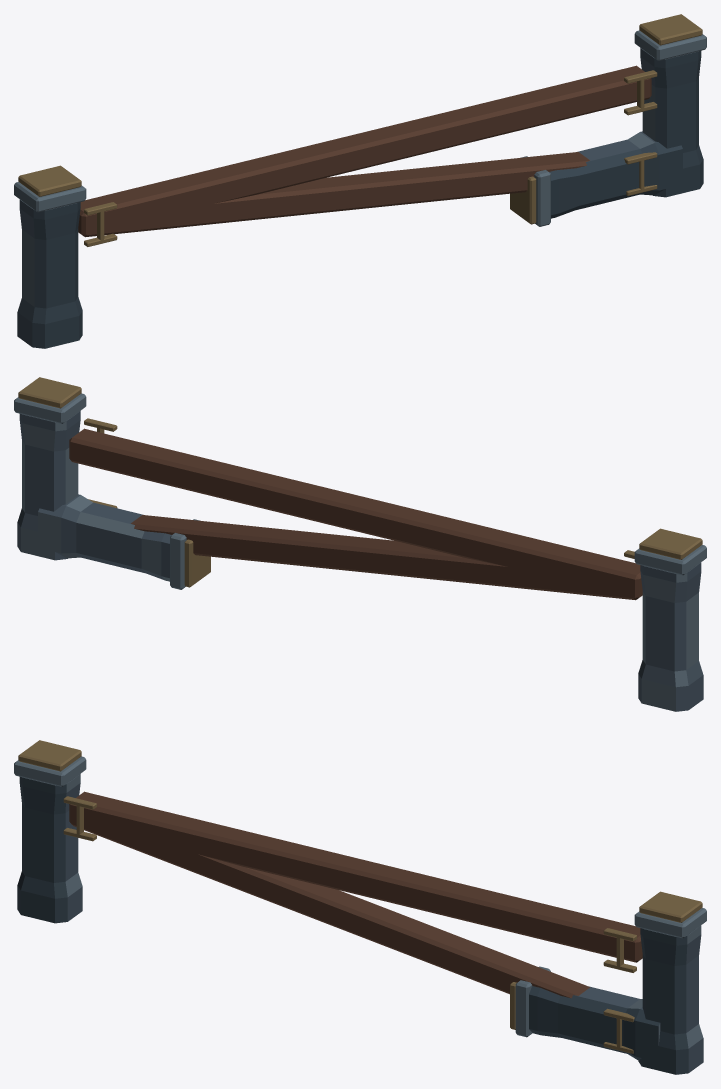
Rendered from a05_ceremonial_barrier_module.glb.
3 renders of one model, top to bottom at view 1: azimuth 30°, elevation 25°; view 2: azimuth 150°, elevation 25°; view 3: azimuth 330°, elevation 25°, orthographic.
Parts seen in each view (by area): view 1: A05_Intact_Chestnut_Crossbar, A05_Fallen_Displaced_Crossbar, A05_Fallen_Post_Left_Broad_Tapered_Stone_Body, A05_Fallen_Post_Right_Broad_Tapered_Stone_Body, A05_Intact_Post_Right_Broad_Tapered_Stone_Body, A05_Intact_Post_Right_Cap_Bronze_Accent_OPTIONAL, A05_Fallen_Post_Left_Cap_Bronze_Accent_OPTIONAL, A05_Fallen_Post_Left_Cap_Stone_OPTIONAL, A05_Intact_Post_Right_Cap_Stone_OPTIONAL, A05_Fallen_Post_Right_Cap_Bronze_Accent_OPTIONAL, A05_Fallen_Post_Right_Cap_Stone_OPTIONAL; view 2: A05_Intact_Chestnut_Crossbar, A05_Fallen_Displaced_Crossbar, A05_Fallen_Post_Left_Broad_Tapered_Stone_Body, A05_Fallen_Post_Right_Broad_Tapered_Stone_Body, A05_Intact_Post_Right_Broad_Tapered_Stone_Body, A05_Intact_Post_Right_Cap_Bronze_Accent_OPTIONAL, A05_Fallen_Post_Left_Cap_Bronze_Accent_OPTIONAL, A05_Fallen_Post_Left_Cap_Stone_OPTIONAL, A05_Intact_Post_Right_Cap_Stone_OPTIONAL, A05_Fallen_Post_Right_Cap_Bronze_Accent_OPTIONAL, A05_Fallen_Post_Right_Cap_Stone_OPTIONAL; view 3: A05_Intact_Chestnut_Crossbar, A05_Fallen_Displaced_Crossbar, A05_Fallen_Post_Left_Broad_Tapered_Stone_Body, A05_Intact_Post_Right_Broad_Tapered_Stone_Body, A05_Fallen_Post_Right_Broad_Tapered_Stone_Body, A05_Fallen_Post_Left_Cap_Bronze_Accent_OPTIONAL, A05_Intact_Post_Right_Cap_Bronze_Accent_OPTIONAL, A05_Intact_Post_Right_Cap_Stone_OPTIONAL, A05_Fallen_Post_Left_Cap_Stone_OPTIONAL, A05_Fallen_Post_Right_Cap_Stone_OPTIONAL.
Part boxes in pixels (x1,y1,x2,y2): A05_Intact_Chestnut_Crossbar: [78, 65, 651, 236]; A05_Fallen_Displaced_Crossbar: [85, 152, 589, 237]; A05_Fallen_Post_Left_Broad_Tapered_Stone_Body: [17, 199, 82, 348]; A05_Fallen_Post_Right_Broad_Tapered_Stone_Body: [549, 131, 682, 218]; A05_Intact_Post_Right_Broad_Tapered_Stone_Body: [640, 48, 703, 197]; A05_Intact_Post_Right_Cap_Bronze_Accent_OPTIONAL: [639, 14, 702, 45]; A05_Fallen_Post_Left_Cap_Bronze_Accent_OPTIONAL: [18, 165, 81, 196]; A05_Fallen_Post_Left_Cap_Stone_OPTIONAL: [14, 182, 86, 212]; A05_Intact_Post_Right_Cap_Stone_OPTIONAL: [634, 30, 706, 60]; A05_Fallen_Post_Right_Cap_Bronze_Accent_OPTIONAL: [510, 176, 536, 224]; A05_Fallen_Post_Right_Cap_Stone_OPTIONAL: [521, 156, 550, 226]; A05_Intact_Chestnut_Crossbar: [69, 428, 642, 599]; A05_Fallen_Displaced_Crossbar: [131, 515, 635, 600]; A05_Fallen_Post_Left_Broad_Tapered_Stone_Body: [638, 562, 703, 711]; A05_Fallen_Post_Right_Broad_Tapered_Stone_Body: [38, 494, 171, 581]; A05_Intact_Post_Right_Broad_Tapered_Stone_Body: [17, 411, 80, 560]; A05_Intact_Post_Right_Cap_Bronze_Accent_OPTIONAL: [18, 377, 81, 408]; A05_Fallen_Post_Left_Cap_Bronze_Accent_OPTIONAL: [639, 528, 702, 559]; A05_Fallen_Post_Left_Cap_Stone_OPTIONAL: [634, 545, 706, 575]; A05_Intact_Post_Right_Cap_Stone_OPTIONAL: [14, 393, 86, 423]; A05_Fallen_Post_Right_Cap_Bronze_Accent_OPTIONAL: [184, 539, 210, 587]; A05_Fallen_Post_Right_Cap_Stone_OPTIONAL: [170, 519, 199, 589]; A05_Intact_Chestnut_Crossbar: [69, 791, 642, 962]; A05_Fallen_Displaced_Crossbar: [72, 807, 589, 998]; A05_Fallen_Post_Left_Broad_Tapered_Stone_Body: [17, 774, 82, 923]; A05_Intact_Post_Right_Broad_Tapered_Stone_Body: [638, 925, 703, 1074]; A05_Fallen_Post_Right_Broad_Tapered_Stone_Body: [529, 986, 660, 1061]; A05_Fallen_Post_Left_Cap_Bronze_Accent_OPTIONAL: [18, 740, 81, 771]; A05_Intact_Post_Right_Cap_Bronze_Accent_OPTIONAL: [639, 891, 702, 922]; A05_Intact_Post_Right_Cap_Stone_OPTIONAL: [634, 908, 706, 938]; A05_Fallen_Post_Left_Cap_Stone_OPTIONAL: [14, 756, 86, 786]; A05_Fallen_Post_Right_Cap_Stone_OPTIONAL: [515, 966, 550, 1037].
Bounding box in the file's own units: 4 × 0.9 × 0.25.
